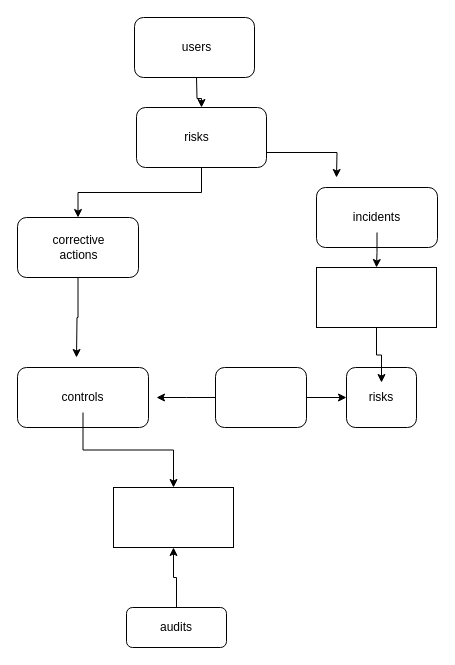
This 455x665 diagram has some shape labels left out. The shapes that lost their labels are listed below. From the top down, each one's centre as x and y in pixels, then its label:
(376,297): incident risks
(260,397): risk controls
(173,517): audit findings
